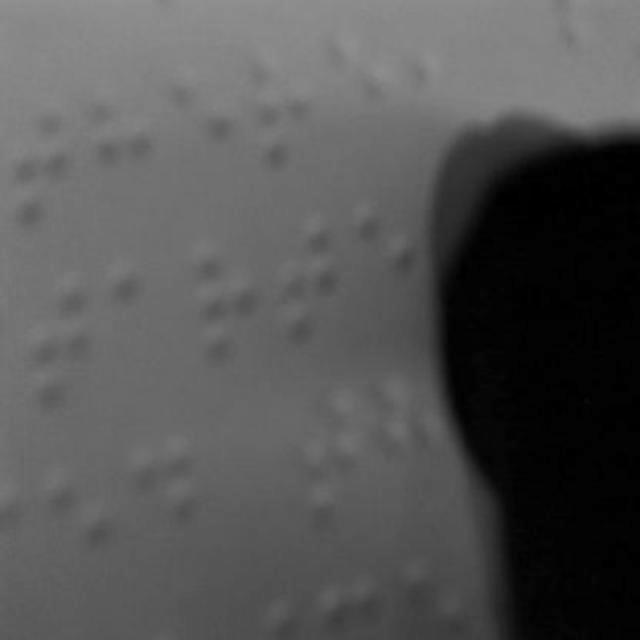braiile: (304, 380, 372, 524), (46, 451, 116, 589), (89, 82, 159, 218), (132, 429, 198, 569), (192, 232, 258, 372), (250, 42, 320, 168), (108, 250, 172, 384), (6, 105, 70, 238), (170, 58, 237, 185), (276, 209, 336, 349), (356, 190, 419, 318), (325, 26, 389, 152), (28, 286, 90, 410)
